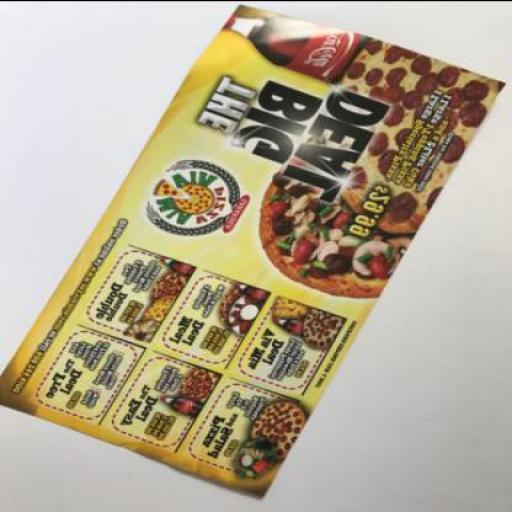paper: (0, 2, 505, 495)
